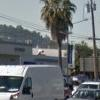Palm tree: (38, 2, 83, 59)
